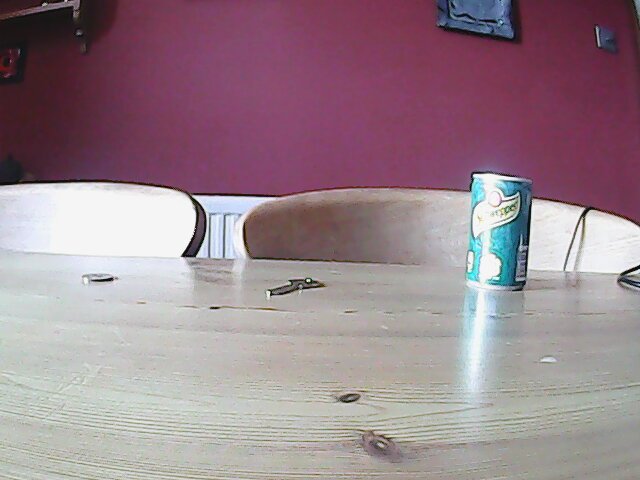Can: (463, 168, 536, 294)
Coin: (79, 269, 115, 286)
Key: (265, 273, 323, 304)
